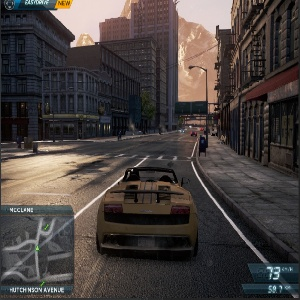ad: (173, 99, 209, 115)
building: (218, 23, 299, 168), (100, 3, 179, 137), (44, 38, 146, 134)
lamp post: (188, 63, 218, 149)
mailbox: (14, 135, 34, 151), (197, 133, 209, 158)
vehicle: (179, 127, 185, 134)
